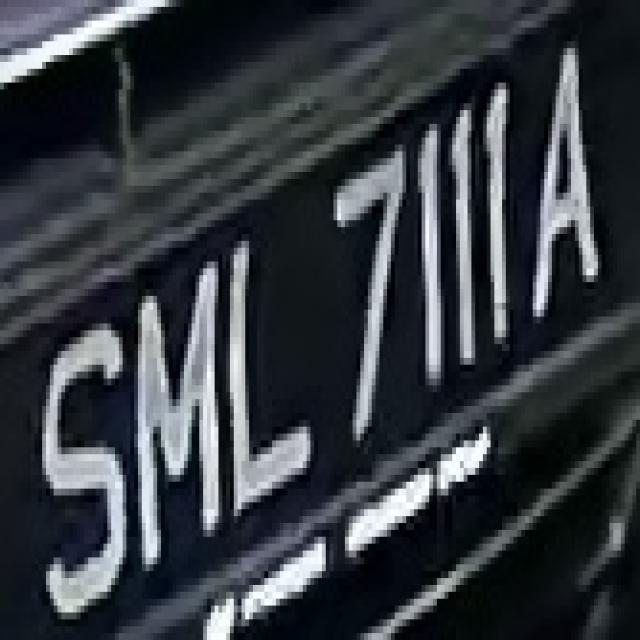1: (468, 55, 521, 385), (441, 69, 486, 406), (402, 110, 448, 427)
7: (318, 138, 406, 447)
A: (525, 28, 613, 316)
L: (219, 241, 318, 523)
M: (127, 262, 226, 571)
S: (42, 316, 127, 612)
